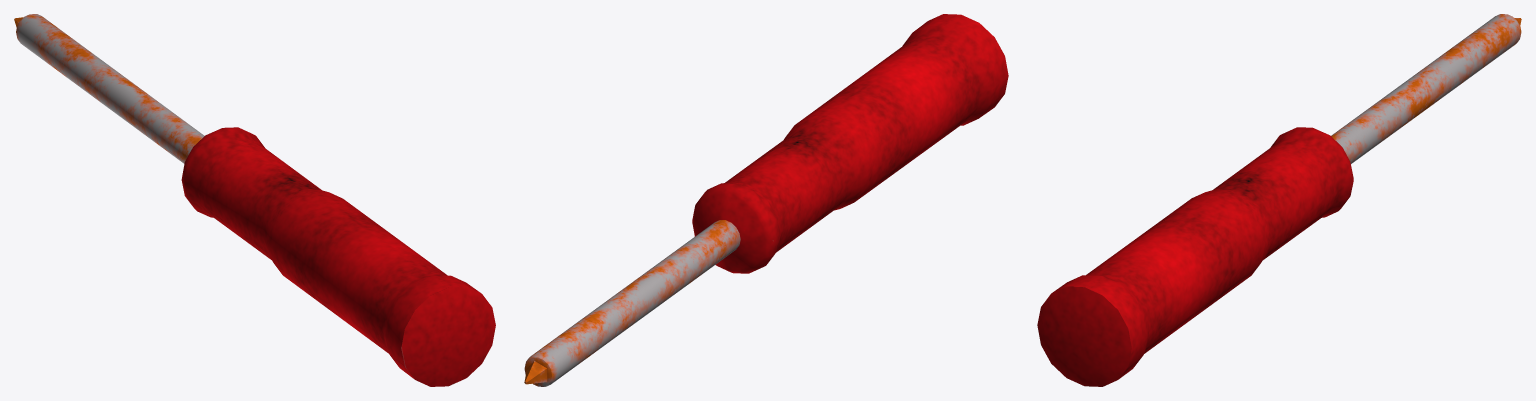
Rendered from Tournevis.fbx.
3 views of the same model, side by side, from view 1: azimuth 30°, elevation 25°; view 2: azimuth 150°, elevation 25°; view 3: azimuth 330°, elevation 25° (orthographic).
Visible parts, largest first — view 1: Cylinder; view 2: Cylinder; view 3: Cylinder.
Part boxes in pixels (left/top/right/bottom): Cylinder: left=14, top=14, right=495, bottom=386; Cylinder: left=524, top=14, right=1008, bottom=386; Cylinder: left=1037, top=14, right=1521, bottom=386.
Bounding box in the file's own units: 18.75 × 18.75 × 150.
